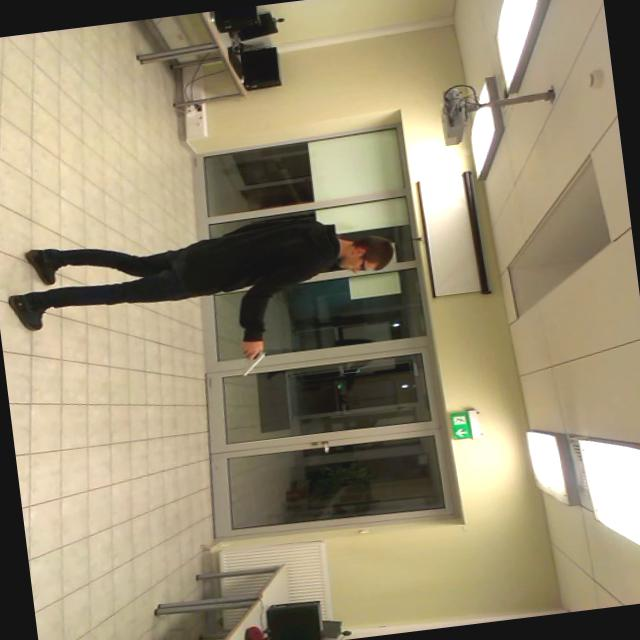handgun: (224, 343, 280, 383)
